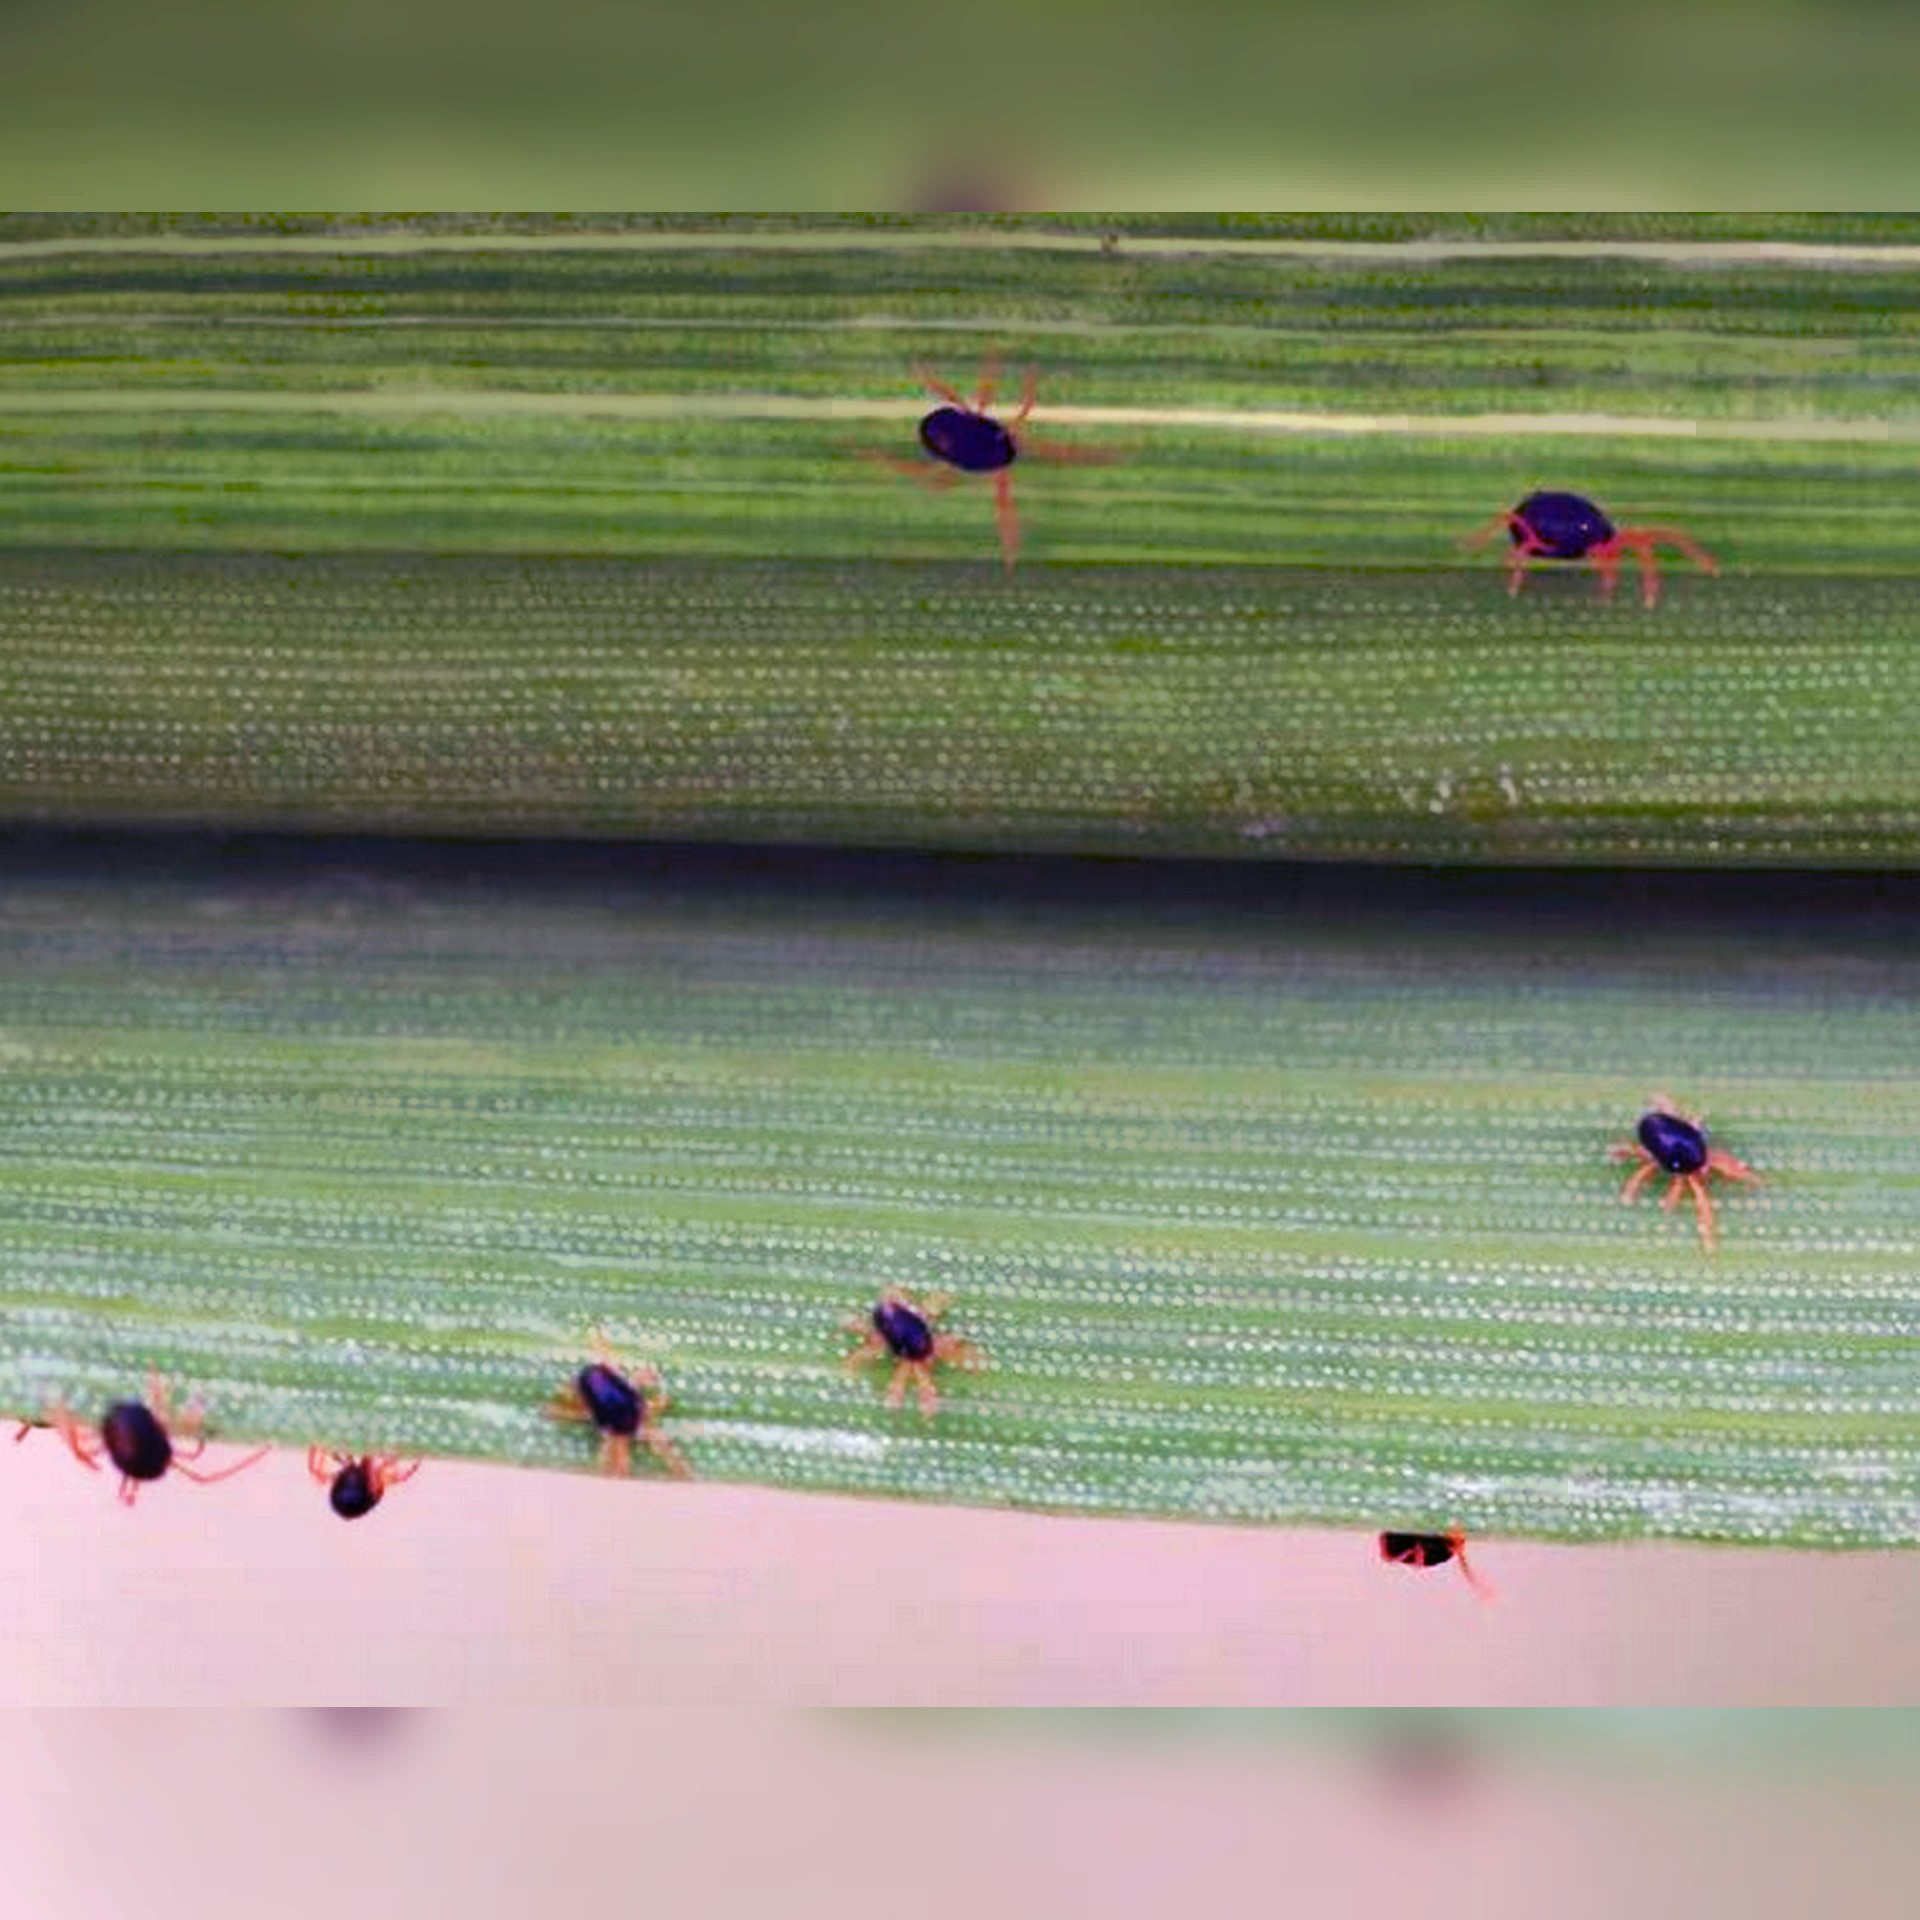Wheat Red Spider: (1431, 476, 1744, 626), (1584, 1074, 1765, 1262)
